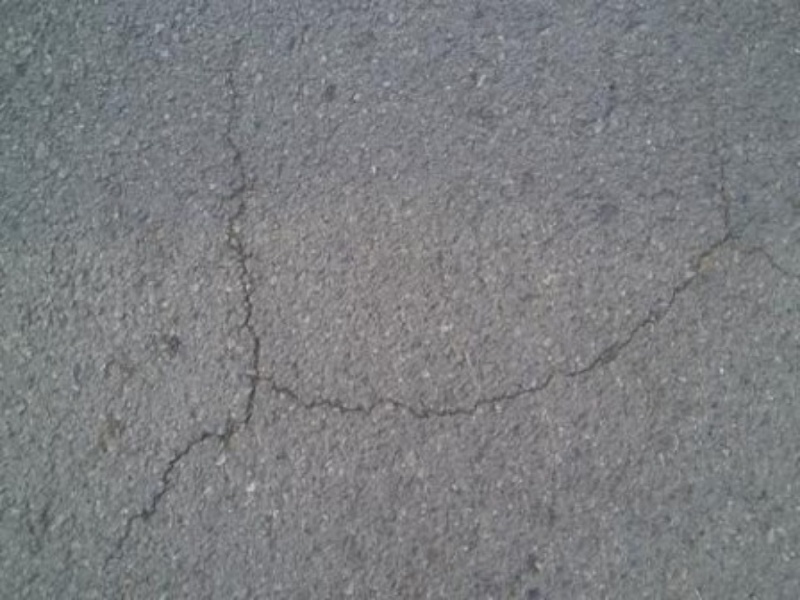crack: (282, 198, 776, 447), (123, 61, 278, 544)
